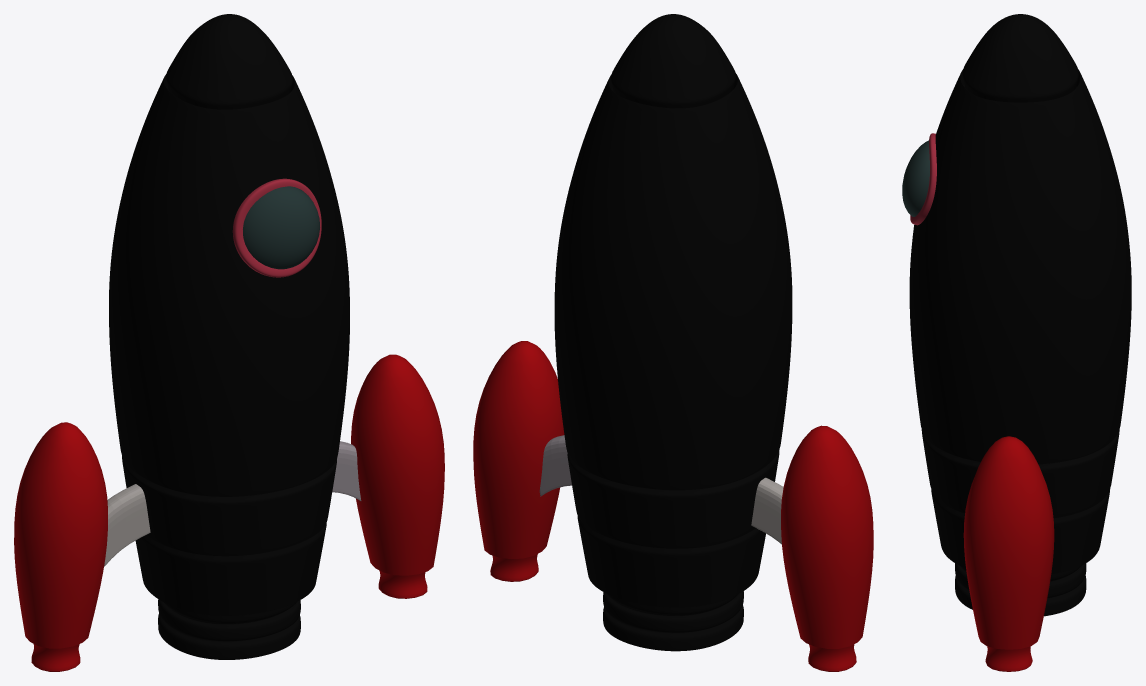
File: roket.fbx
The picture shows the model from 3 angles, left to right: view 1: azimuth 30°, elevation 25°; view 2: azimuth 150°, elevation 25°; view 3: azimuth 270°, elevation 25°; orthographic projection. The views are drawn at different scales.
Visible parts, largest first — view 1: Cube, Cube.001, Cube.003, Sphere, Cube.002, Circle, Cube.004; view 2: Cube, Cube.001, Cube.003, Cube.002, Cube.004; view 3: Cube, Cube.003, Sphere, Circle.
Part boxes in pixels (box(x1,y1,x2,y2)): Cube: box(109, 14, 349, 659); Cube.001: box(14, 422, 107, 671); Cube.003: box(351, 354, 444, 598); Sphere: box(243, 186, 319, 269); Cube.002: box(104, 484, 150, 566); Circle: box(232, 178, 321, 277); Cube.004: box(332, 441, 361, 500); Cube: box(554, 14, 792, 651); Cube.001: box(781, 425, 873, 671); Cube.003: box(473, 341, 564, 581); Cube.002: box(751, 477, 783, 544); Cube.004: box(539, 435, 571, 496); Cube: box(909, 14, 1131, 616); Cube.003: box(963, 436, 1054, 671); Sphere: box(902, 140, 929, 216); Circle: box(910, 133, 936, 225).
Size of the model in its own units: 441 by 231 by 638.
